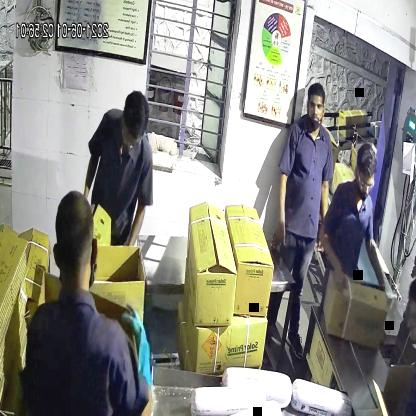goggles: (354, 167, 376, 195)
